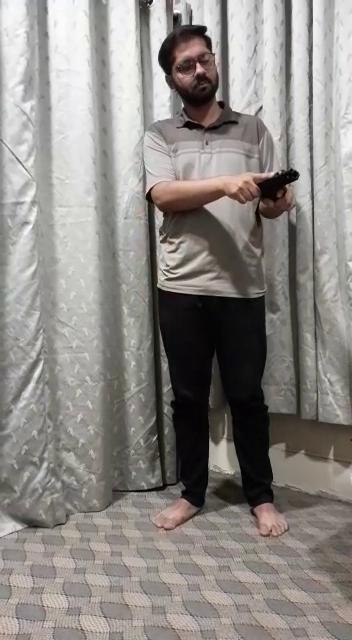criminal: (138, 22, 306, 540)
weapon: (252, 165, 305, 205)
